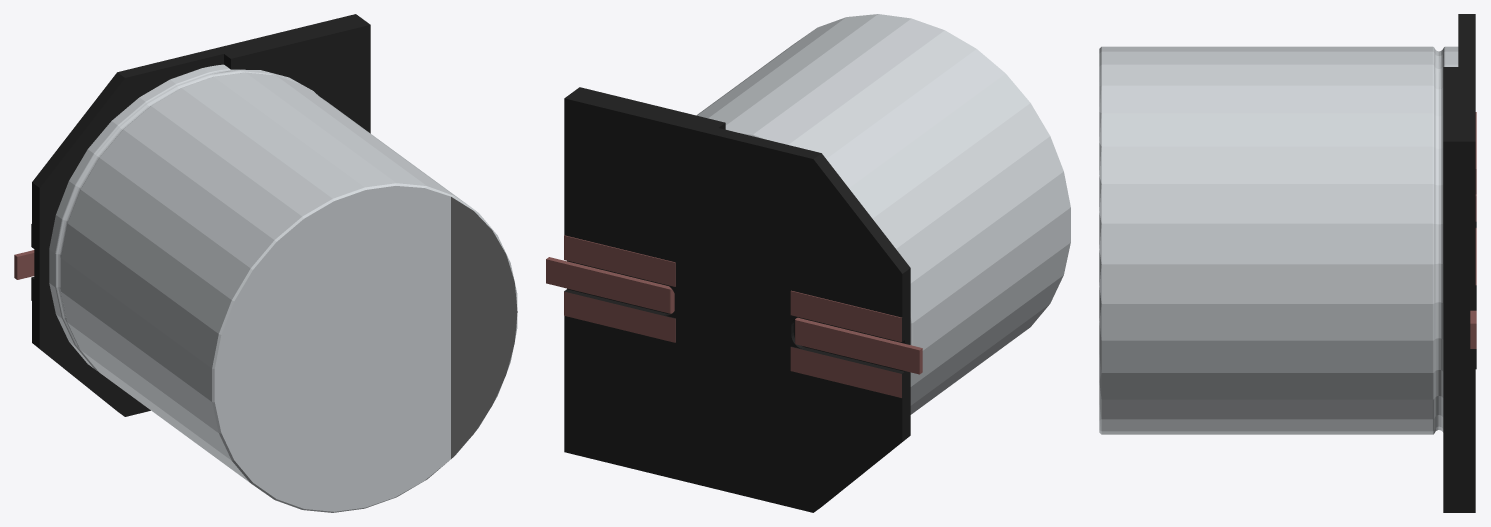
The model's file is Vishay 146 CTI 1816.obj.
3 views of the same model, side by side, from view 1: azimuth 30°, elevation 25°; view 2: azimuth 150°, elevation 25°; view 3: azimuth 270°, elevation 25° (orthographic). The views are drawn at different scales.
Visible parts, largest first — view 1: Vishay_146_CTI_1816; view 2: Vishay_146_CTI_1816; view 3: Vishay_146_CTI_1816.
Boxes of the visible parts, box(x1,y1,x2,y2) form: Vishay_146_CTI_1816: box(14, 14, 517, 512); Vishay_146_CTI_1816: box(546, 14, 1070, 512); Vishay_146_CTI_1816: box(1099, 14, 1476, 512).
Size of the model in its own units: 0.0118 by 0.0107 by 0.00983.
